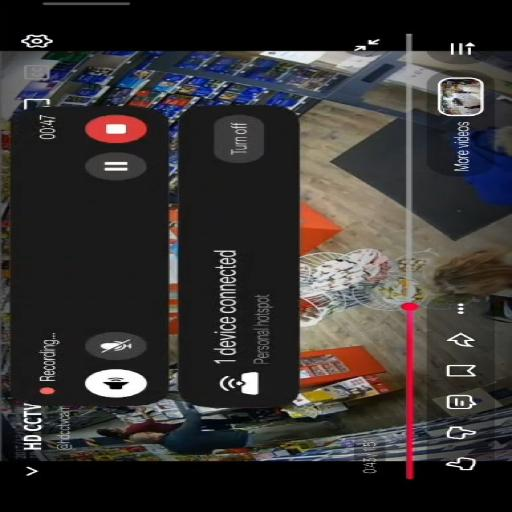workers: (430, 143, 512, 302), (96, 408, 254, 454)
